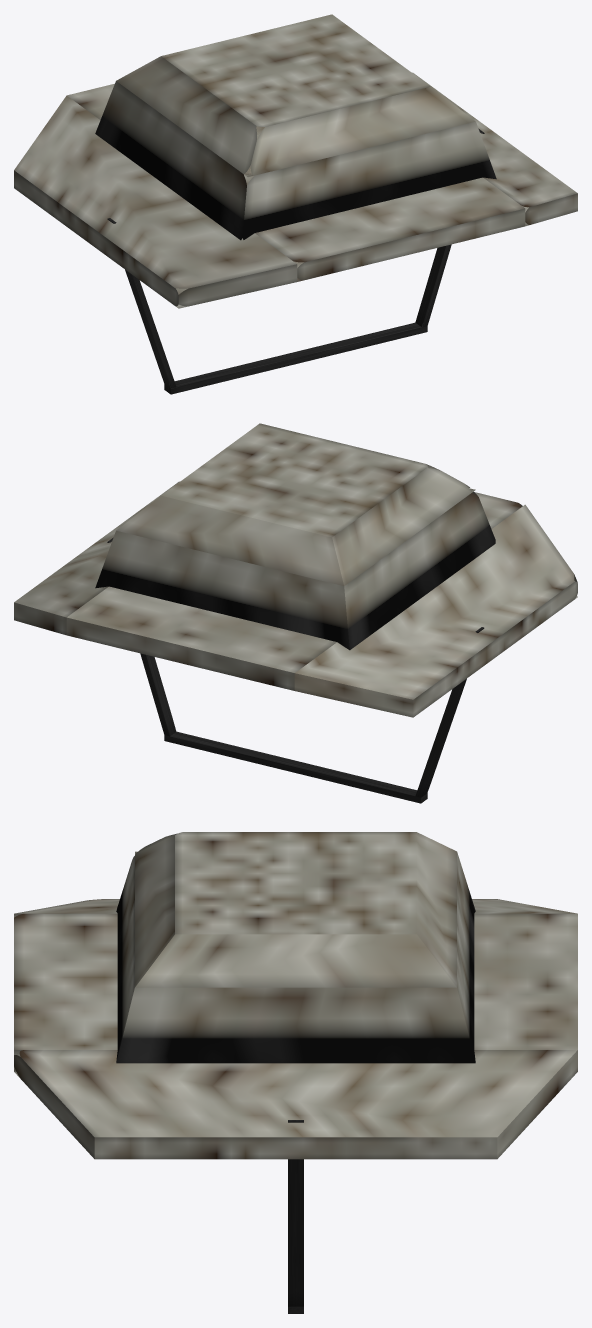
File: marinehat.obj
The picture shows the model from 3 angles, top to bottom: view 1: azimuth 30°, elevation 25°; view 2: azimuth 150°, elevation 25°; view 3: azimuth 270°, elevation 25°; orthographic projection. The views are drawn at different scales.
Visible parts, largest first — view 1: headModel3, headModel4, headModel2, headModel0, headModel1, headModel7, headModel5, headModel6; view 2: headModel3, headModel4, headModel2, headModel0, headModel1, headModel7, headModel5, headModel6; view 3: headModel1, headModel3, headModel2, headModel0, headModel6, headModel4.
Boxes of the visible parts, x1,y1,x2,y2 form: headModel3: (116, 14, 475, 176); headModel4: (14, 95, 297, 308); headModel2: (95, 81, 496, 240); headModel0: (67, 83, 525, 281); headModel1: (412, 72, 577, 226); headModel7: (164, 322, 427, 394); headModel5: (107, 218, 176, 388); headModel6: (415, 128, 484, 327); headModel3: (116, 423, 475, 585); headModel4: (294, 504, 577, 717); headModel2: (95, 489, 495, 650); headModel0: (66, 492, 522, 690); headModel1: (14, 481, 179, 635); headModel7: (164, 731, 427, 803); headModel5: (415, 627, 484, 797); headModel6: (107, 537, 176, 736); headModel1: (14, 1050, 577, 1159); headModel3: (135, 832, 456, 987); headModel2: (116, 852, 475, 1063); headModel0: (14, 913, 577, 1071); headModel6: (288, 1120, 303, 1306); headModel4: (14, 899, 576, 917).
Size of the model in its own units: 14 by 9.7 by 14.
